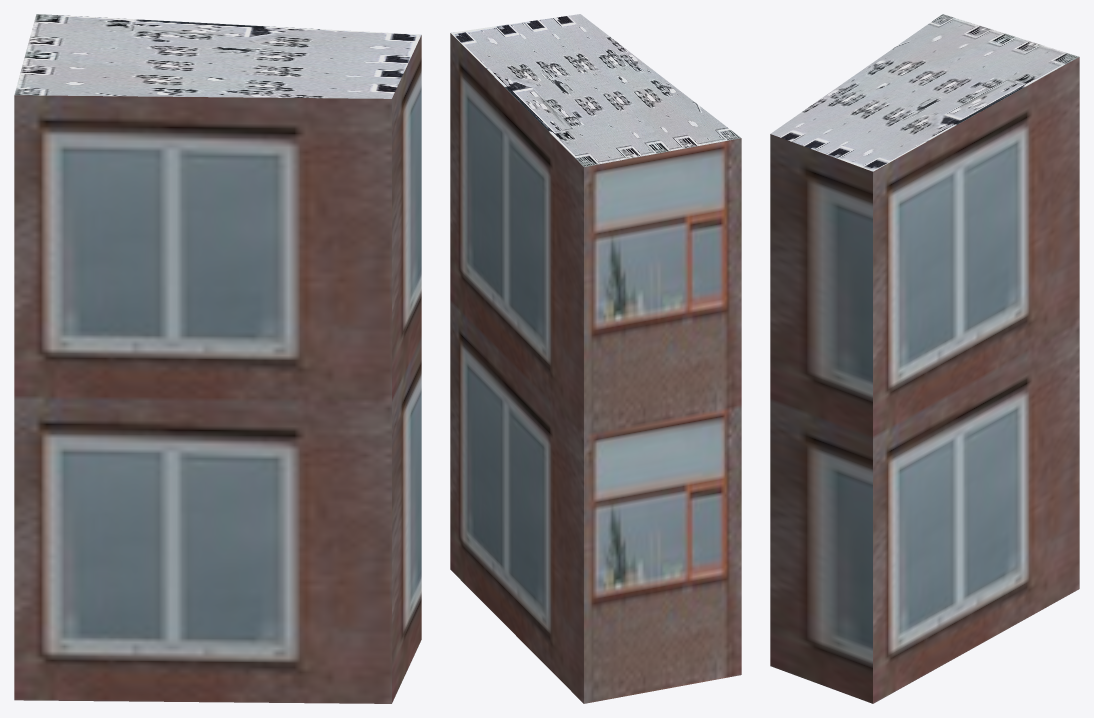
File: ResTex__993.fbx
3 views of the same model, side by side, from view 1: azimuth 30°, elevation 25°; view 2: azimuth 150°, elevation 25°; view 3: azimuth 270°, elevation 25° (orthographic). The views are drawn at different scales.
Visible parts, largest first — view 1: CityEngineMaterial_19_m, CityEngineMaterial_15_m; view 2: CityEngineMaterial_19_m, CityEngineMaterial_15_m; view 3: CityEngineMaterial_19_m, CityEngineMaterial_15_m.
Boxes of the visible parts, x1,y1,x2,y2 form: CityEngineMaterial_19_m: [14, 35, 421, 703]; CityEngineMaterial_15_m: [14, 14, 421, 98]; CityEngineMaterial_19_m: [450, 33, 741, 703]; CityEngineMaterial_15_m: [451, 14, 741, 166]; CityEngineMaterial_19_m: [770, 57, 1079, 703]; CityEngineMaterial_15_m: [770, 14, 1079, 171].
Bounding box in the file's own units: 3.82 × 6 × 3.16.
Materials: 2 (2 with a texture image).
